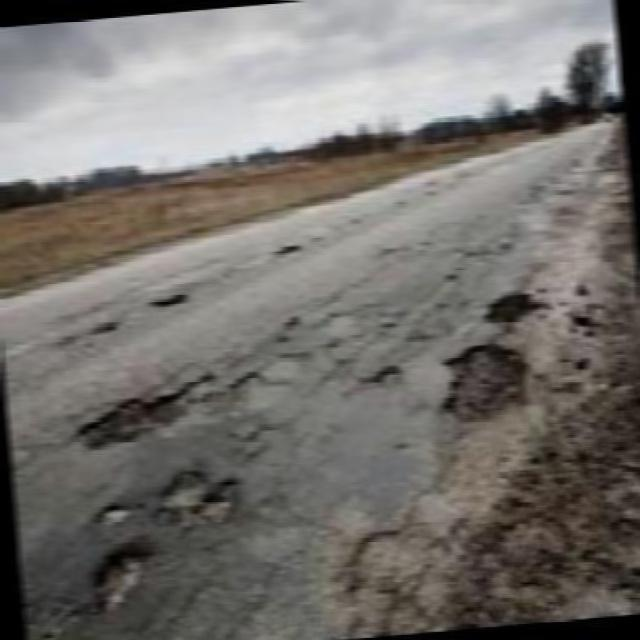Pothole: (67, 360, 224, 460), (434, 340, 534, 427), (153, 460, 253, 531), (80, 538, 156, 619), (479, 279, 548, 335), (228, 364, 298, 418), (344, 353, 415, 390), (87, 497, 142, 527), (146, 288, 197, 309), (80, 316, 124, 340), (270, 240, 308, 262)
